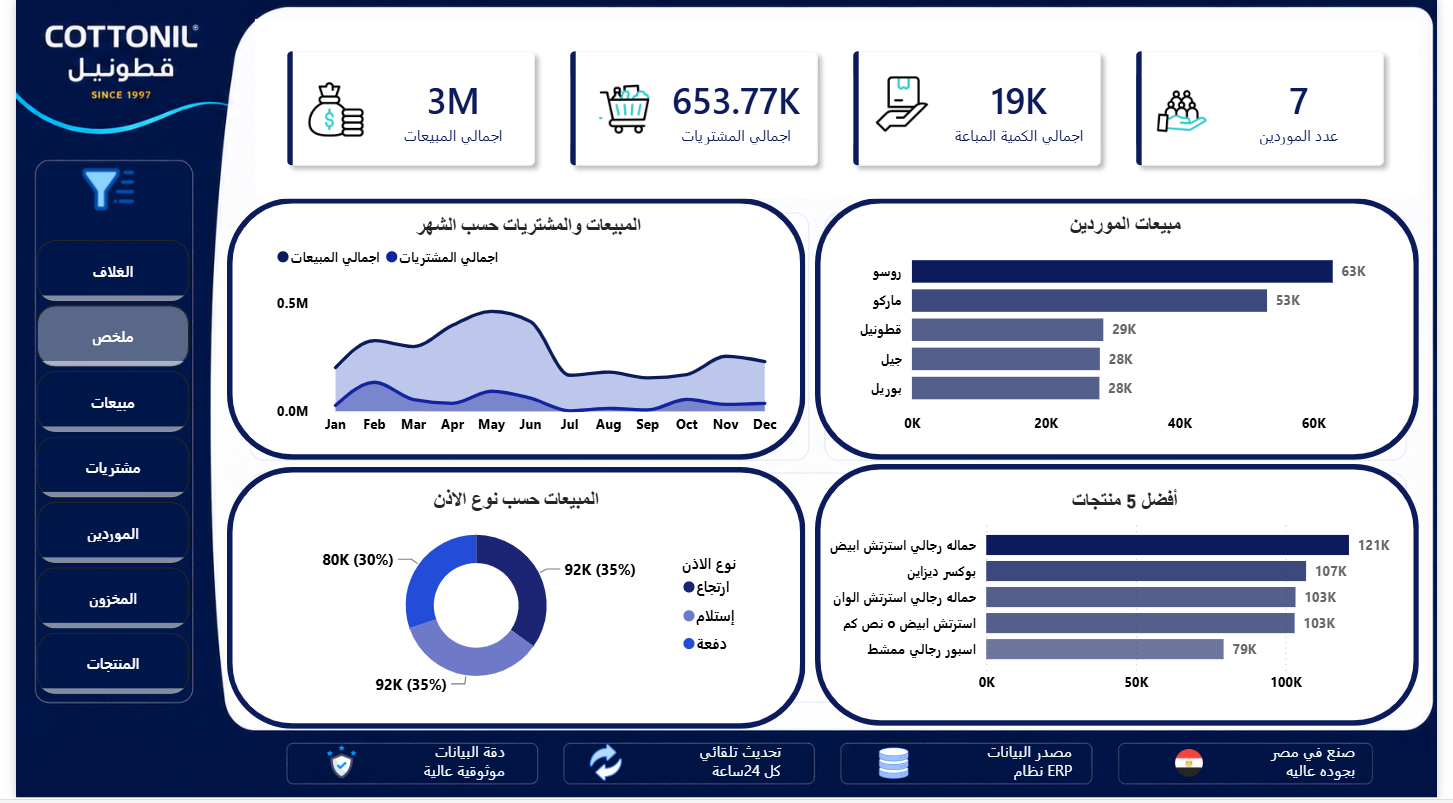

What the dashboard file says about the page in this screenshot:
{"tool":"powerbi","page":{"name":"ملخص","canvas":[1280,720],"ordinal":1},"visuals":[{"type":"pageNavigator","box":[19,216.5,137.7,409],"z":0},{"type":"shape","box":[190,178.5,521.4,235.9],"z":1000},{"type":"shape","box":[720.3,418.2,544.4,235.9],"z":2000},{"type":"shape","box":[720.3,178.5,544.4,235.9],"z":3000},{"type":"shape","box":[190,420.7,521.4,235.9],"z":4000},{"type":"cardVisual","fields":{"Data":["-measure.اجمالي المبيعات","-measure.اجمالي المشتريات","-measure.اجمالي الكمية المباعة","-measure.عدد الموردين"]},"box":[215.7,17,1049.2,161.8],"z":5000},{"type":"areaChart","title":"المبيعات والمشتريات حسب الشهر","fields":{"Category":["dim date.اسم الشهر"],"Y":["-measure.اجمالي المبيعات","Sum(fact -> المشتريات.السعر)"]},"box":[229.5,192.5,464.1,207.8],"z":6000},{"type":"donutChart","title":"المبيعات حسب نوع الاذن","fields":{"Y":["Sum(fact sales -> المبيعات.السعر)"],"Category":["dim نوع الاذن -> كشف حساب الموردين.نوع الاذن"]},"box":[224.4,439.8,452.6,192.5],"z":7000},{"type":"barChart","title":"مبيعات الموردين","fields":{"Category":["fact -> كشف حساب الموردين.اسم المورد"],"Y":["Sum(fact sales -> المبيعات.السعر)"]},"box":[753.1,192,491.9,208.1],"z":8000},{"type":"barChart","title":"أفضل 5 منتجات","fields":{"Category":["fact -> المشتريات.الصنف"],"Y":["Sum(fact sales -> المبيعات.السعر)"]},"box":[726.6,440.2,545.5,192.4],"z":9000},{"type":"actionButton","box":[53.2,140.3,70.2,60],"z":10000},{"type":"textbox","box":[358.6,663.2,90.8,46.4],"z":12000},{"type":"textbox","box":[603.6,663.2,90.8,46.4],"z":13000},{"type":"textbox","box":[865.6,663.2,90.8,46.4],"z":14000},{"type":"textbox","box":[1121.1,663.2,90.8,46.4],"z":15000},{"type":"image","box":[1043.5,674.5,27.4,24.6],"z":16000},{"type":"image","box":[274.4,671.7,38.8,30.3],"z":17000},{"type":"image","box":[509.9,669.8,43.5,35],"z":18000},{"type":"image","box":[752.1,673.6,76.6,29.3],"z":19000}]}

Visuals, with their boxes in screenshot pixels (x1, y1, x2, y2), scaled from the page's 1280x720 canvas onto the 1453x803 screenshot:
pageNavigator: [22,241,178,698]
shape: [216,199,808,462]
shape: [818,466,1436,730]
shape: [818,199,1436,462]
shape: [216,469,808,732]
cardVisual - -measure.اجمالي المبيعات x -measure.اجمالي المشتريات: [245,19,1436,199]
"المبيعات والمشتريات حسب الشهر" areaChart: [261,215,787,446]
"المبيعات حسب نوع الاذن" donutChart: [255,490,769,705]
"مبيعات الموردين" barChart: [855,214,1413,446]
"أفضل 5 منتجات" barChart: [825,491,1444,706]
actionButton: [60,156,140,223]
textbox: [407,740,510,791]
textbox: [685,740,788,791]
textbox: [983,740,1086,791]
textbox: [1273,740,1376,791]
image: [1185,752,1216,780]
image: [311,749,356,783]
image: [579,747,628,786]
image: [854,751,941,784]
